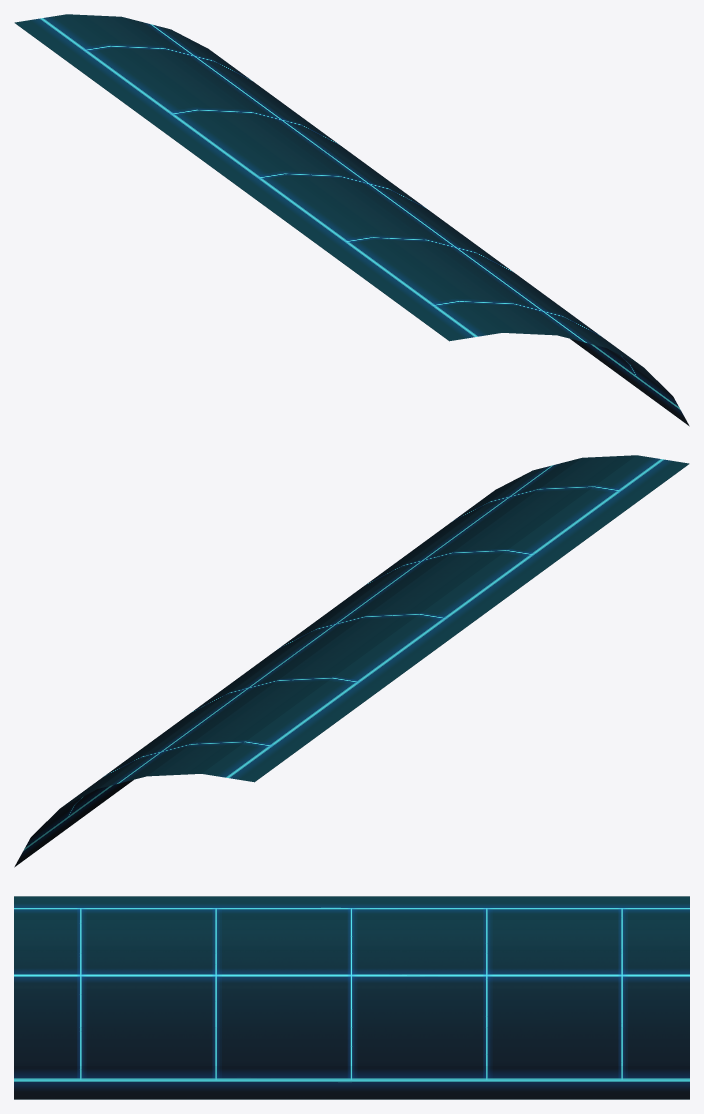
Rendered from ts_jxsqobj012.FBX.
3 renders of one model, top to bottom at view 1: azimuth 30°, elevation 25°; view 2: azimuth 150°, elevation 25°; view 3: azimuth 270°, elevation 25°, orthographic. The views are drawn at different scales.
Parts seen in each view (by area): view 1: ts_jxsqobj012; view 2: ts_jxsqobj012; view 3: ts_jxsqobj012.
Boxes of the visible parts, <box> form: ts_jxsqobj012: <box>14,14,689,426</box>; ts_jxsqobj012: <box>14,455,689,867</box>; ts_jxsqobj012: <box>14,896,689,1099</box>.
Bounding box in the file's own units: 8.1 × 25.36 × 4.64.
